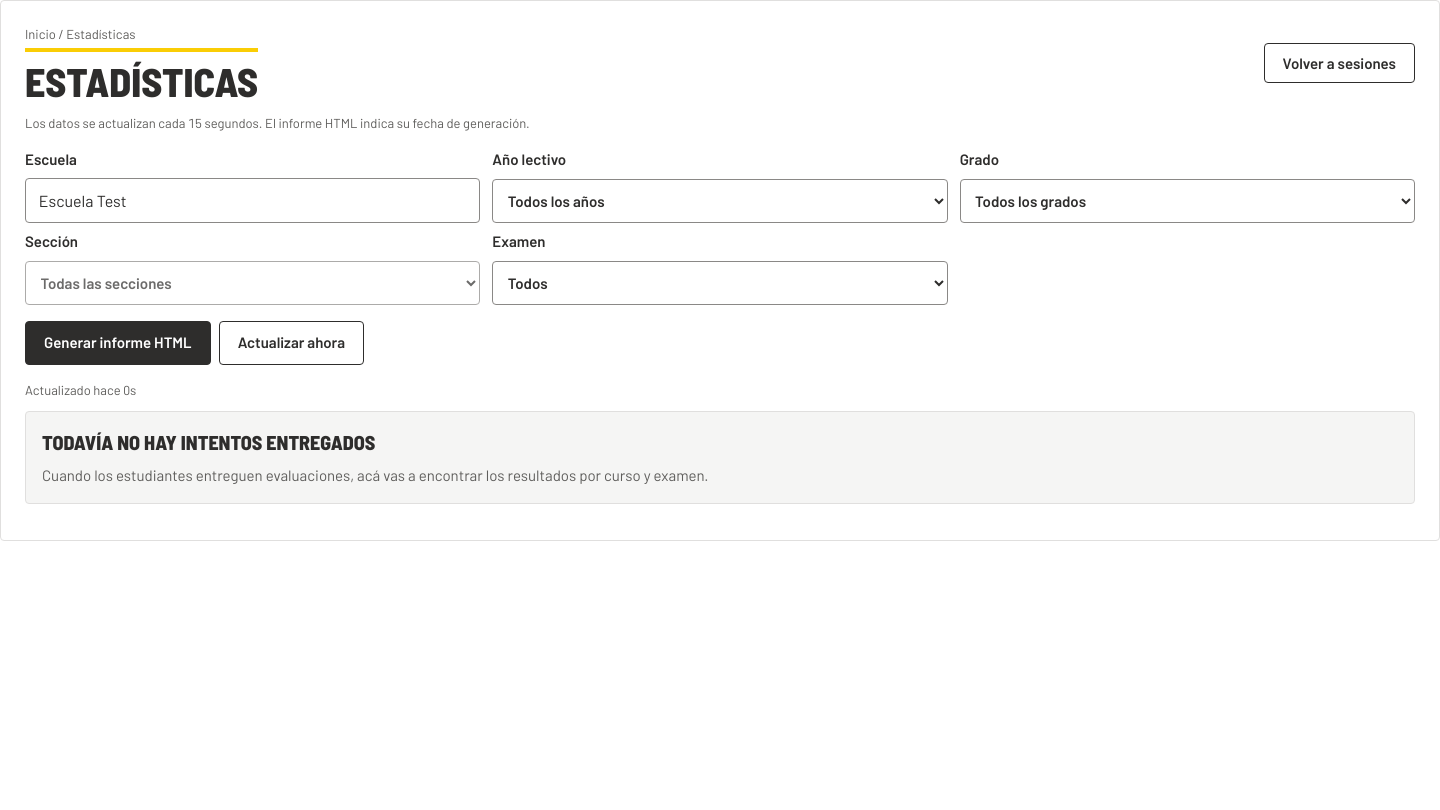
StatsWorkspace › downloads an HTML blob when the host bridge is unavailable
The width and height of the screenshot is (1440, 810).
Click the button "Generar informe HTML": (118, 343) [25, 321, 211, 365]
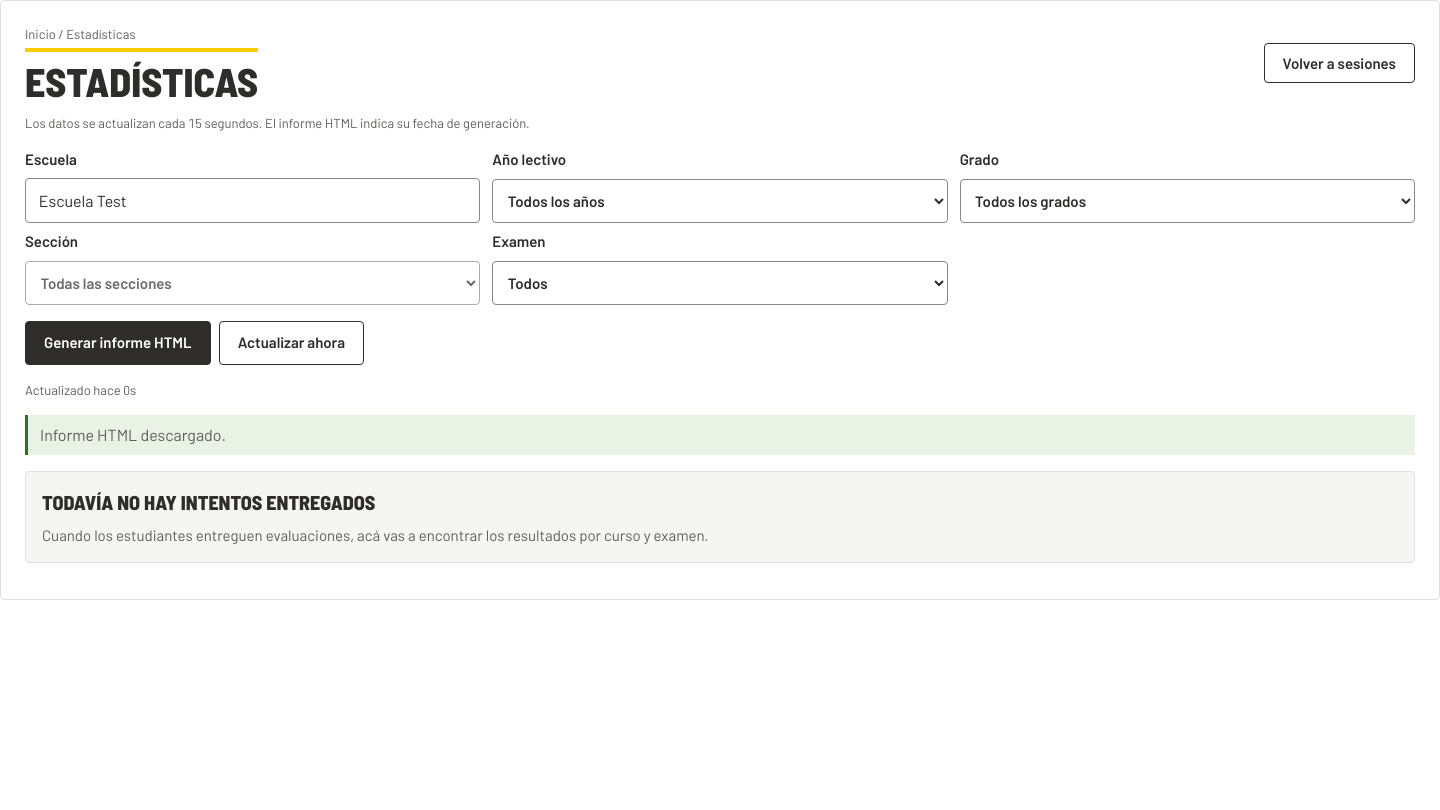
expect the text "Informe HTML descargado." is shown: met, box [25, 415, 1415, 455]
